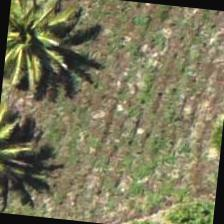Kelapa_Sawit: (2, 0, 78, 89)
